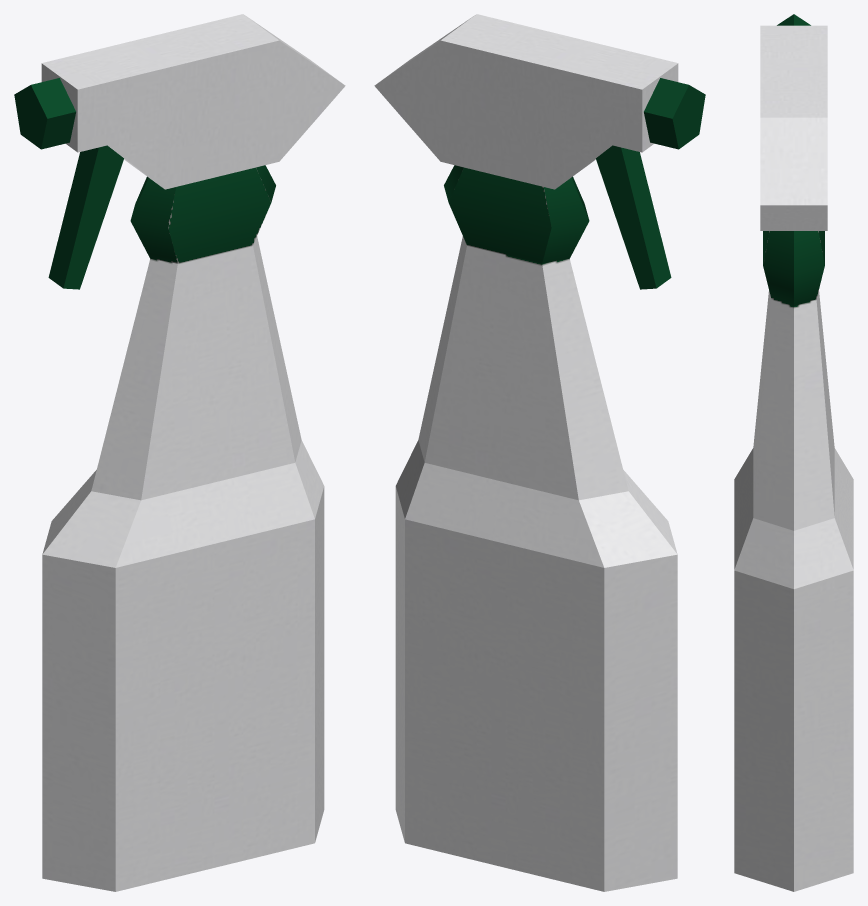
The model's file is spray_bottle.fbx.
3 renders of one model, left to right at view 1: azimuth 30°, elevation 25°; view 2: azimuth 150°, elevation 25°; view 3: azimuth 270°, elevation 25°, orthographic. The views are drawn at different scales.
Parts seen in each view (by area): view 1: pCube3; view 2: pCube3; view 3: pCube3.
Boxes of the visible parts, x1,y1,x2,y2 form: pCube3: (14, 14, 345, 891); pCube3: (374, 14, 705, 891); pCube3: (734, 14, 853, 891).
Bounding box in the file's own units: 2.1 × 5.41 × 0.786.
